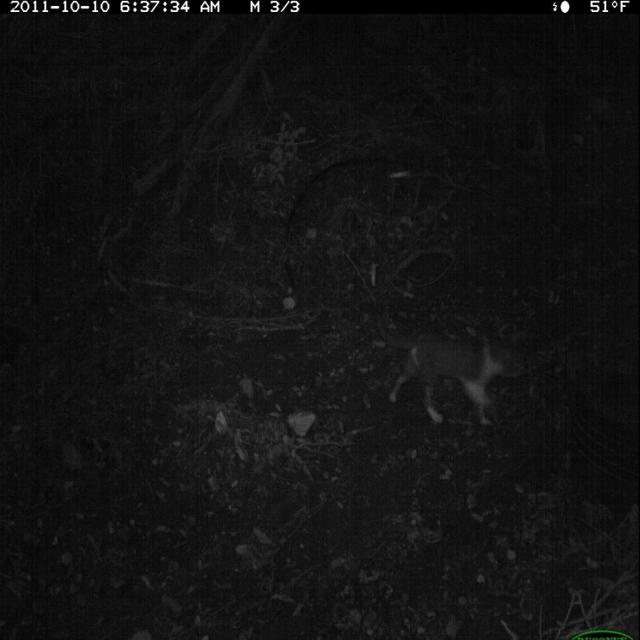cat: (370, 311, 524, 434)
